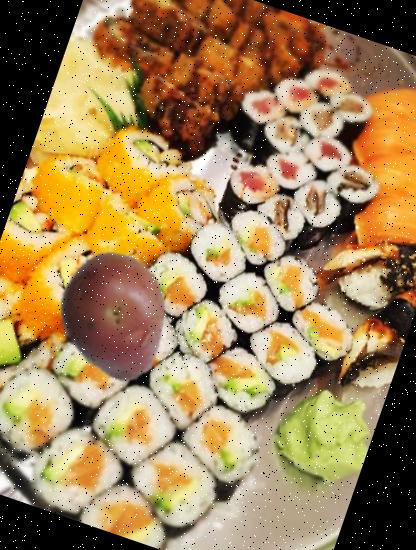Potato: (35, 232, 200, 397)
